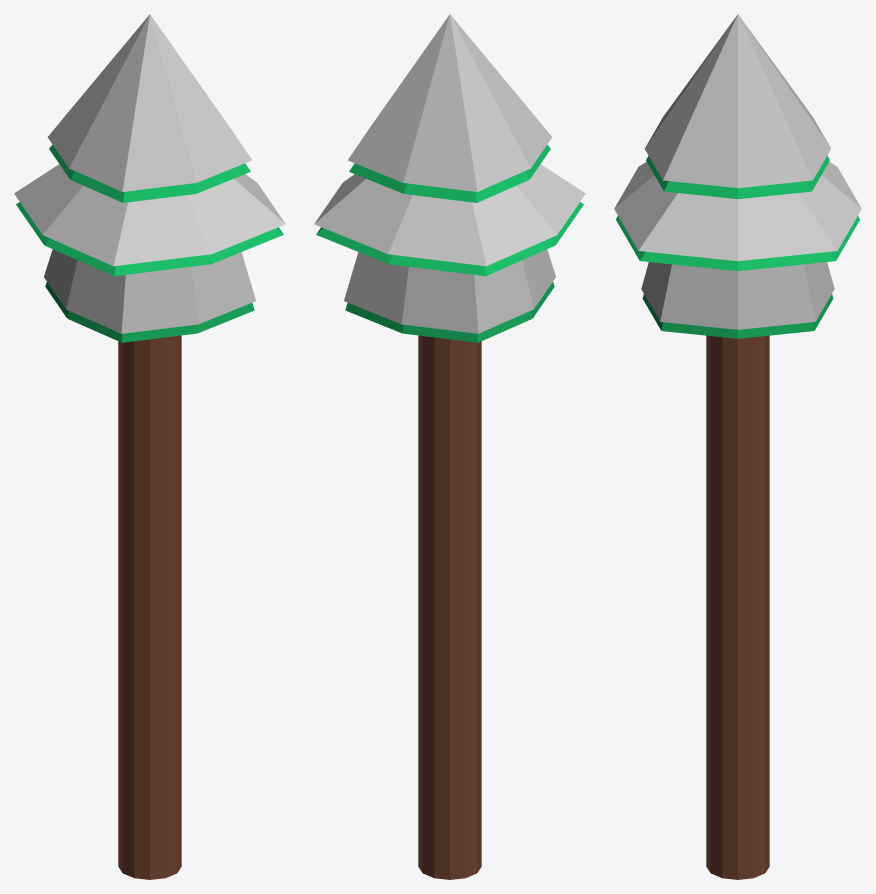
File: Tree_20_winter_gradient_green_vc.fbx
3 renders of one model, left to right at view 1: azimuth 30°, elevation 25°; view 2: azimuth 150°, elevation 25°; view 3: azimuth 270°, elevation 25°, orthographic.
Parts seen in each view (by area): view 1: Tree_20_winter_gradient_green_vc; view 2: Tree_20_winter_gradient_green_vc; view 3: Tree_20_winter_gradient_green_vc.
Boxes of the visible parts, bbox=[...] form: Tree_20_winter_gradient_green_vc: bbox=[14, 14, 285, 879]; Tree_20_winter_gradient_green_vc: bbox=[314, 14, 585, 879]; Tree_20_winter_gradient_green_vc: bbox=[614, 14, 861, 879].
Size of the model in its own units: 86.74 by 329 by 86.74.
